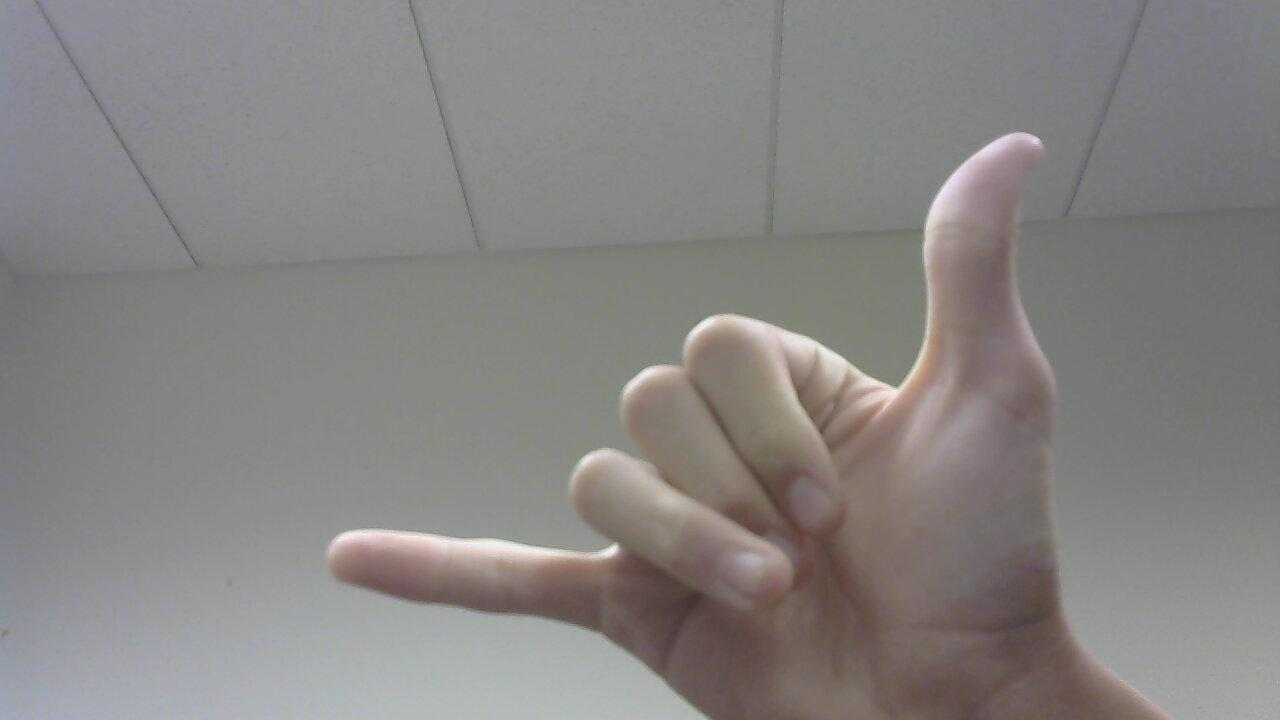hands: (321, 121, 1068, 720)
